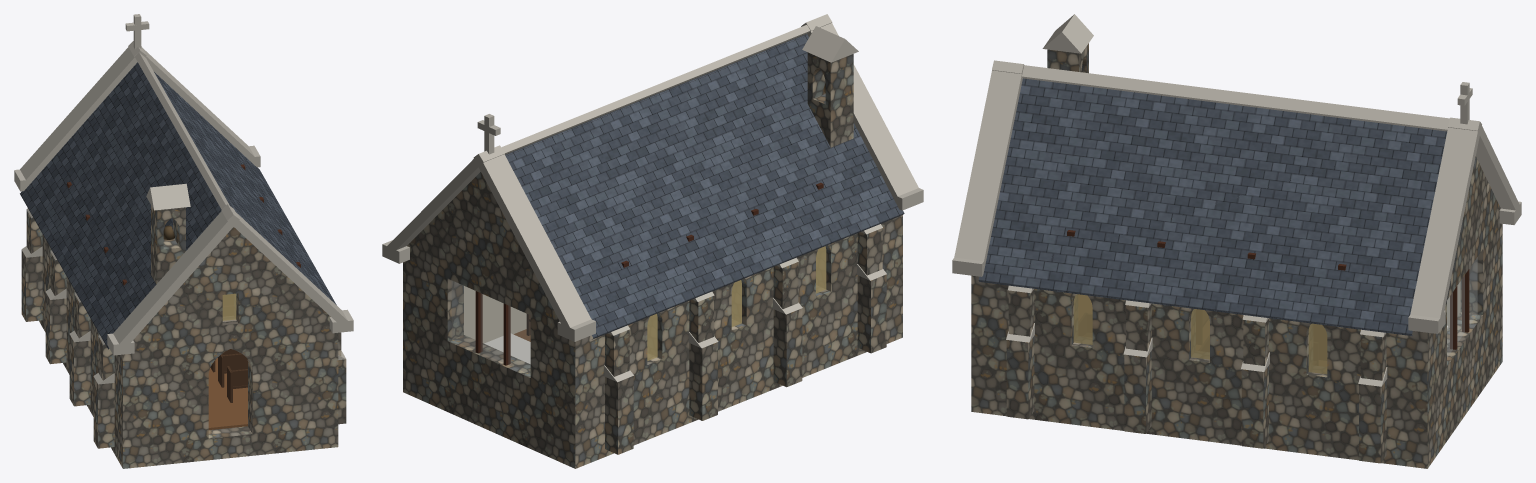
Rendered from tekapo-church.glb.
3 views of the same model, side by side, from view 1: azimuth 30°, elevation 25°; view 2: azimuth 150°, elevation 25°; view 3: azimuth 270°, elevation 25° (orthographic). The views are drawn at different scales.
Parts seen in each view (by area): view 1: Church_of_the_Good_Shepherd; view 2: Church_of_the_Good_Shepherd; view 3: Church_of_the_Good_Shepherd.
Boxes of the visible parts, <box> form: Church_of_the_Good_Shepherd: <box>14,14,353,468</box>; Church_of_the_Good_Shepherd: <box>382,14,923,468</box>; Church_of_the_Good_Shepherd: <box>952,14,1521,468</box>.
Bounding box in the file's own units: 9.05 × 7.77 × 12.09.
11 materials, 2 textured.
